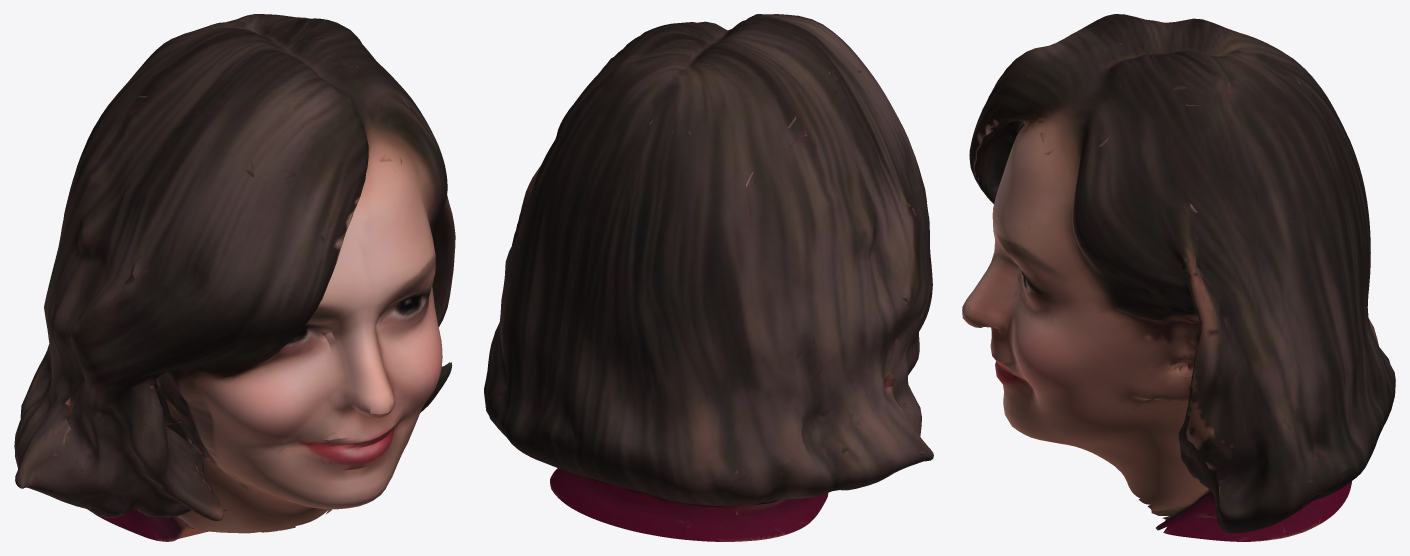
The model's file is Ms_Percival.glb.
The picture shows the model from 3 angles, left to right: view 1: azimuth 30°, elevation 25°; view 2: azimuth 150°, elevation 25°; view 3: azimuth 270°, elevation 25°; orthographic projection. The views are drawn at different scales.
Visible parts, largest first — view 1: Ms.Percival; view 2: Ms.Percival; view 3: Ms.Percival.
Part boxes in pixels (left/top/right/bottom): Ms.Percival: left=14, top=14, right=455, bottom=541; Ms.Percival: left=484, top=14, right=933, bottom=541; Ms.Percival: left=962, top=14, right=1395, bottom=541.
Bounding box in the file's own units: 6.27 × 6.35 × 5.54.
1 material, 1 textured.
